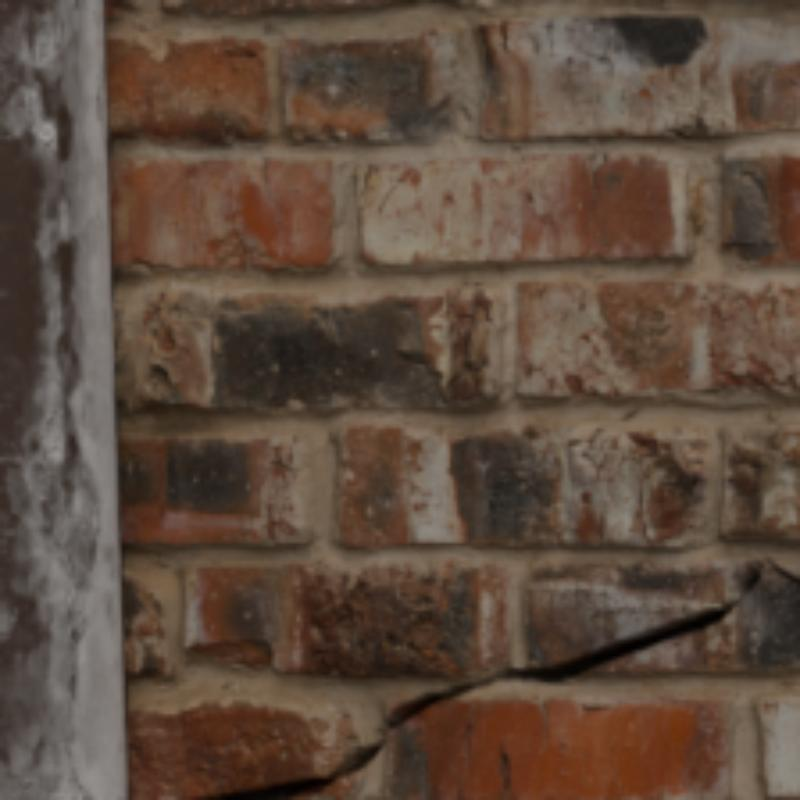pothole: (195, 559, 799, 799)
